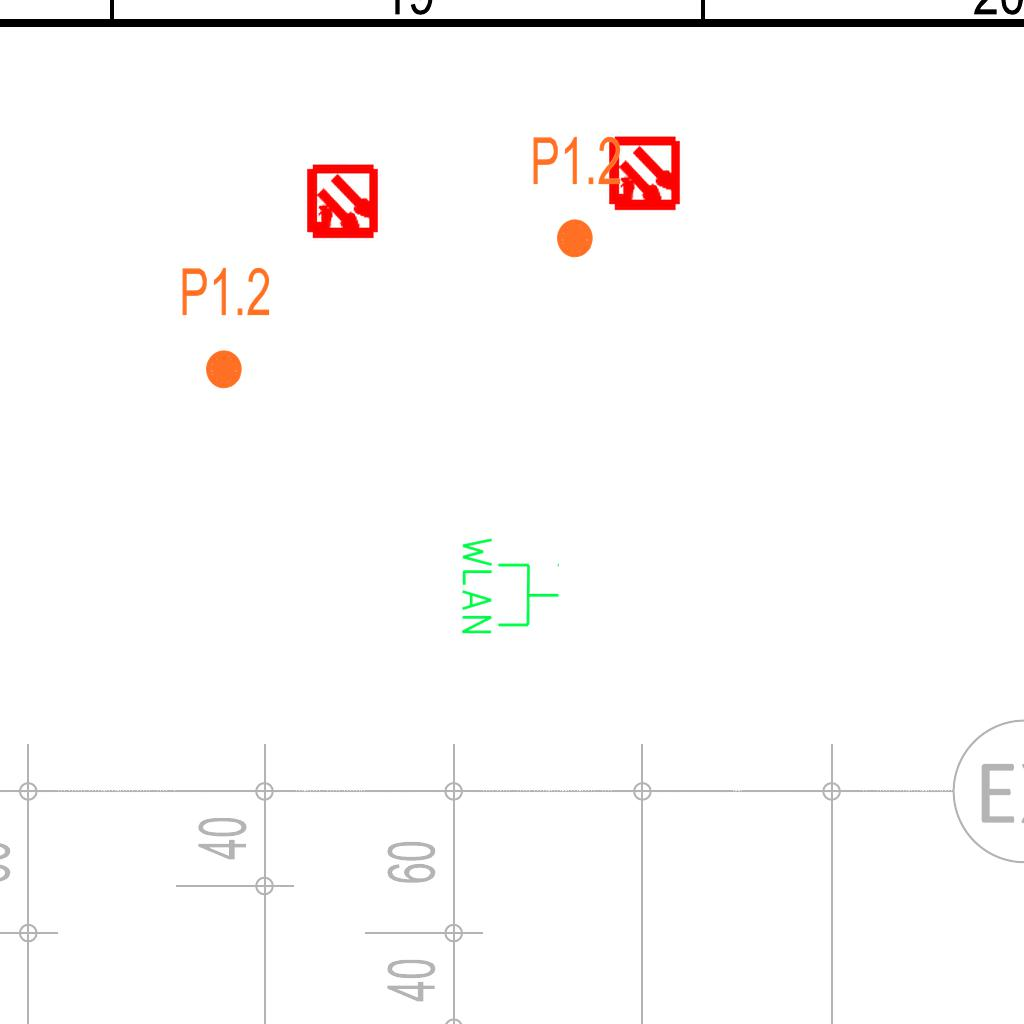Downlight_LED_Einbauleuchten_Flur: (179, 264, 272, 392), (530, 133, 623, 261)
OT_Multisensormelder_(Kombination_RMO_WMD): (286, 147, 399, 260), (588, 119, 701, 232)
WLAN: (458, 533, 562, 638)
